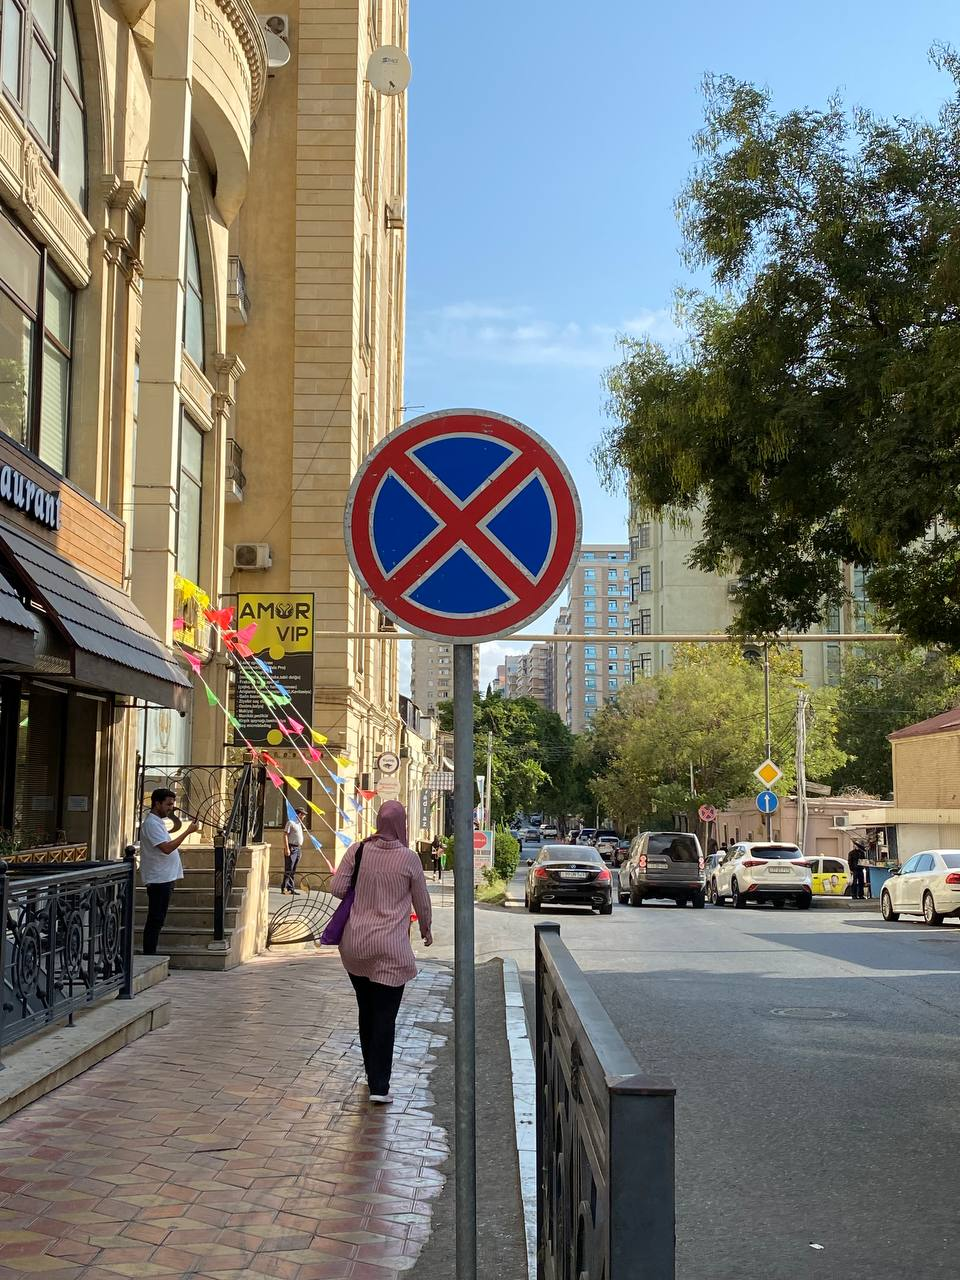No Parking: (342, 409, 584, 645)
